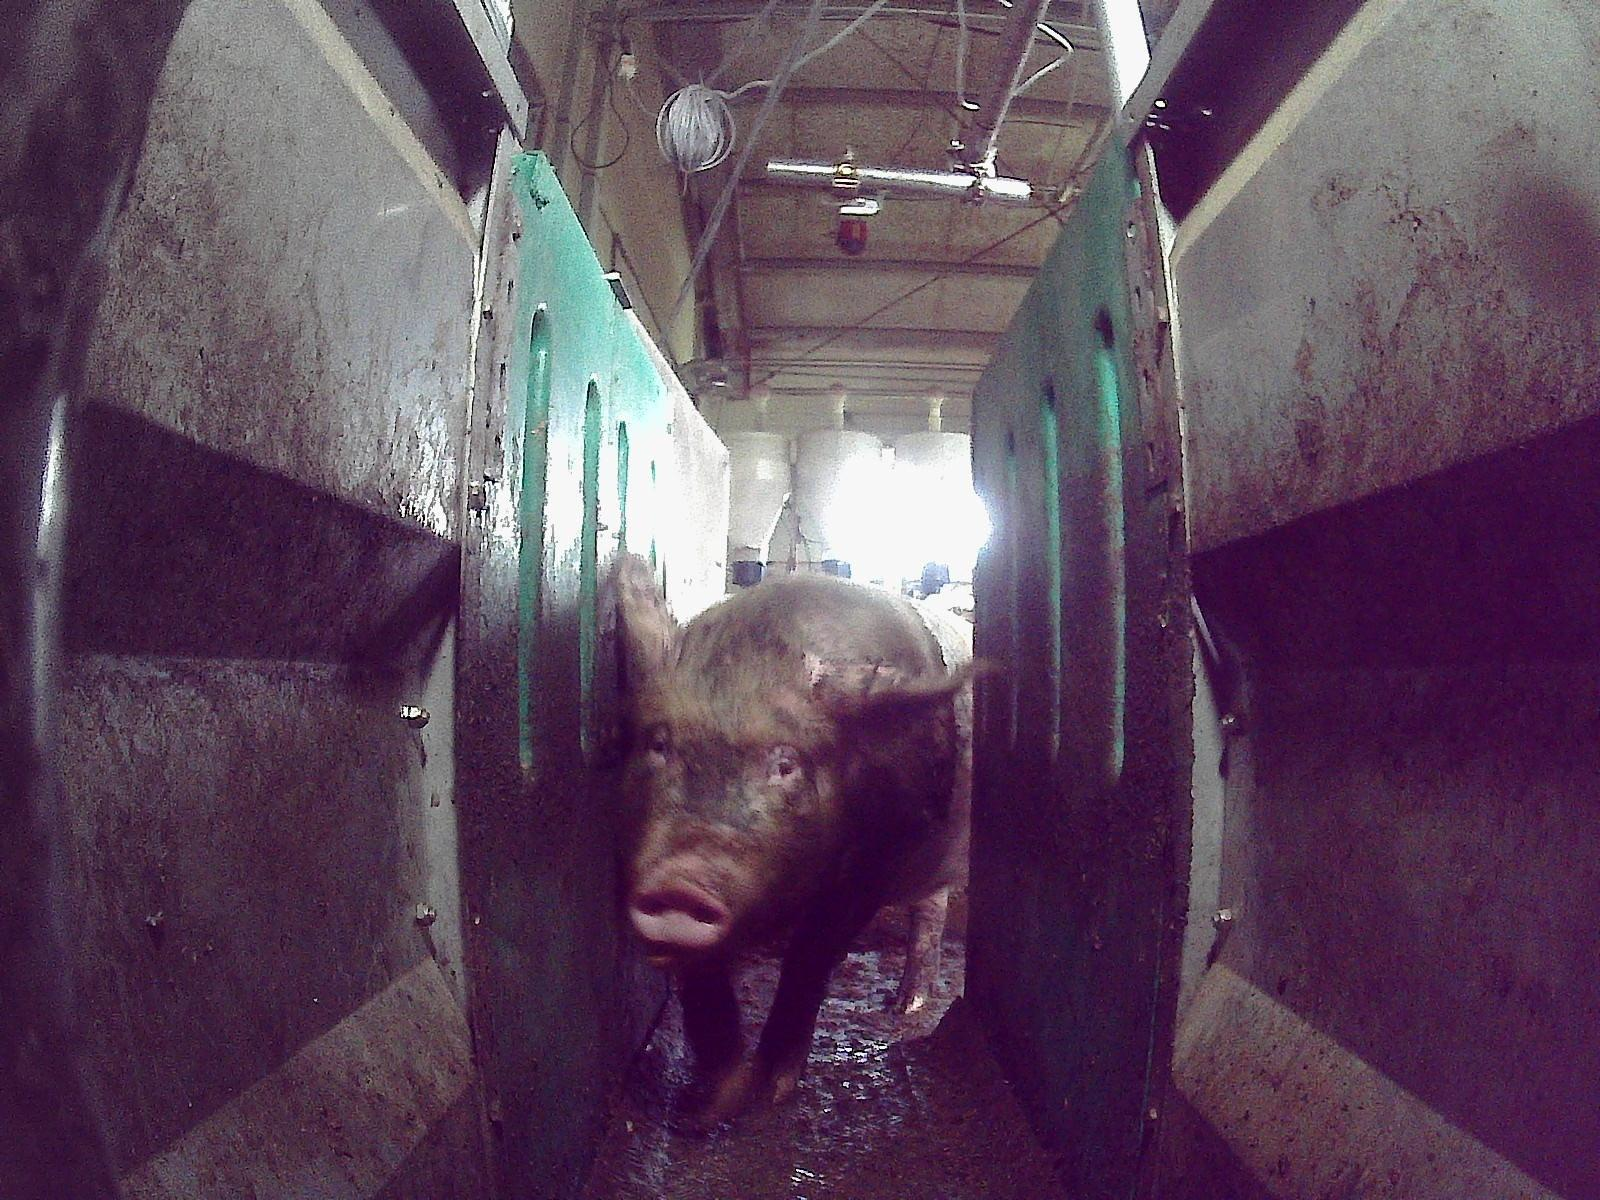Face: (618, 620, 862, 960)
